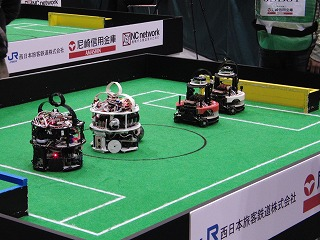Goal: (222, 77, 317, 114)
Robot: (86, 79, 145, 158), (31, 88, 84, 175), (174, 69, 222, 129), (210, 58, 247, 116)
